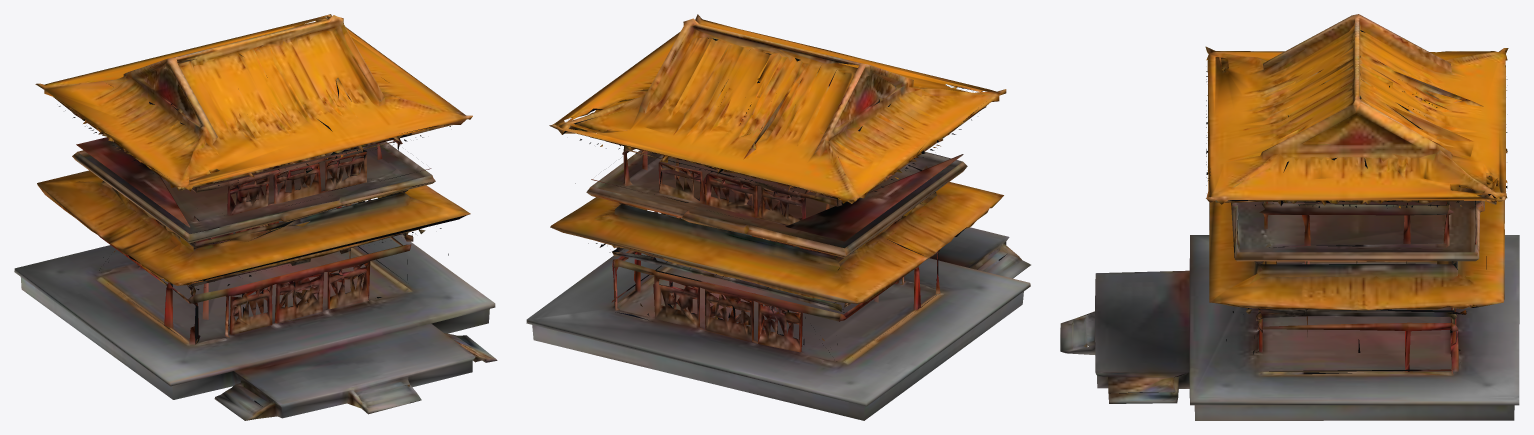
The model's file is bq_drum_tower.bk.glb.
3 renders of one model, left to right at view 1: azimuth 30°, elevation 25°; view 2: azimuth 150°, elevation 25°; view 3: azimuth 270°, elevation 25°, orthographic. The views are drawn at different scales.
Parts seen in each view (by area): view 1: lo; view 2: lo; view 3: lo.
Part boxes in pixels (x1,y1,x2,y2): lo: [14, 14, 497, 420]; lo: [526, 14, 1030, 420]; lo: [1060, 14, 1519, 420].
Bounding box in the file's own units: 1.71 × 1.37 × 1.99.
1 material, 1 textured.
